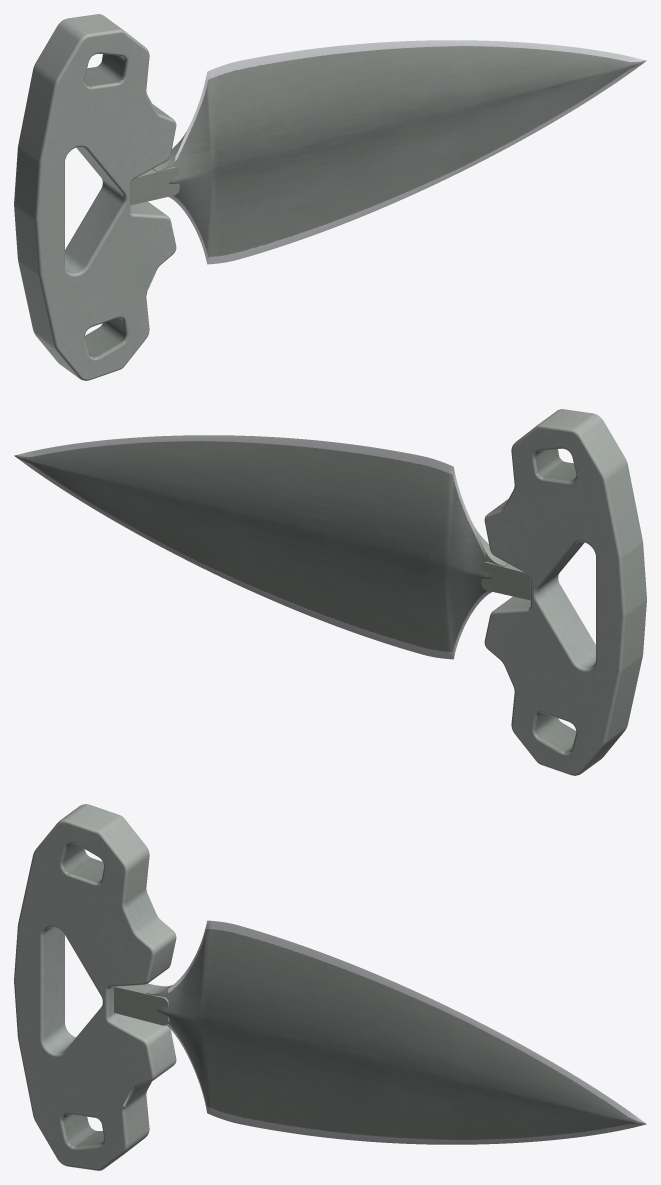
The model's file is shadow_daggers.glb.
3 renders of one model, top to bottom at view 1: azimuth 30°, elevation 25°; view 2: azimuth 150°, elevation 25°; view 3: azimuth 330°, elevation 25°, orthographic.
Parts seen in each view (by area): view 1: body; view 2: body; view 3: body.
Boxes of the visible parts, box(x1,y1,x2,y2) form: body: box(14, 14, 646, 380); body: box(14, 409, 646, 775); body: box(14, 804, 646, 1170).
Size of the model in its own units: 0.1288 by 0.0685 by 0.00851.
3 materials, 3 textured.
